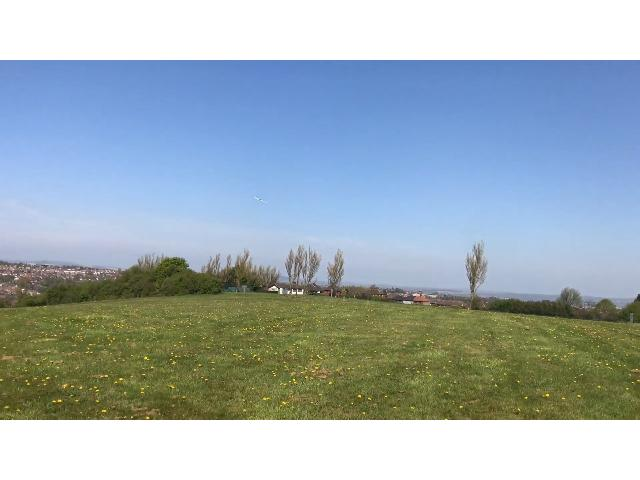Anti-Drone: (242, 188, 284, 214)
